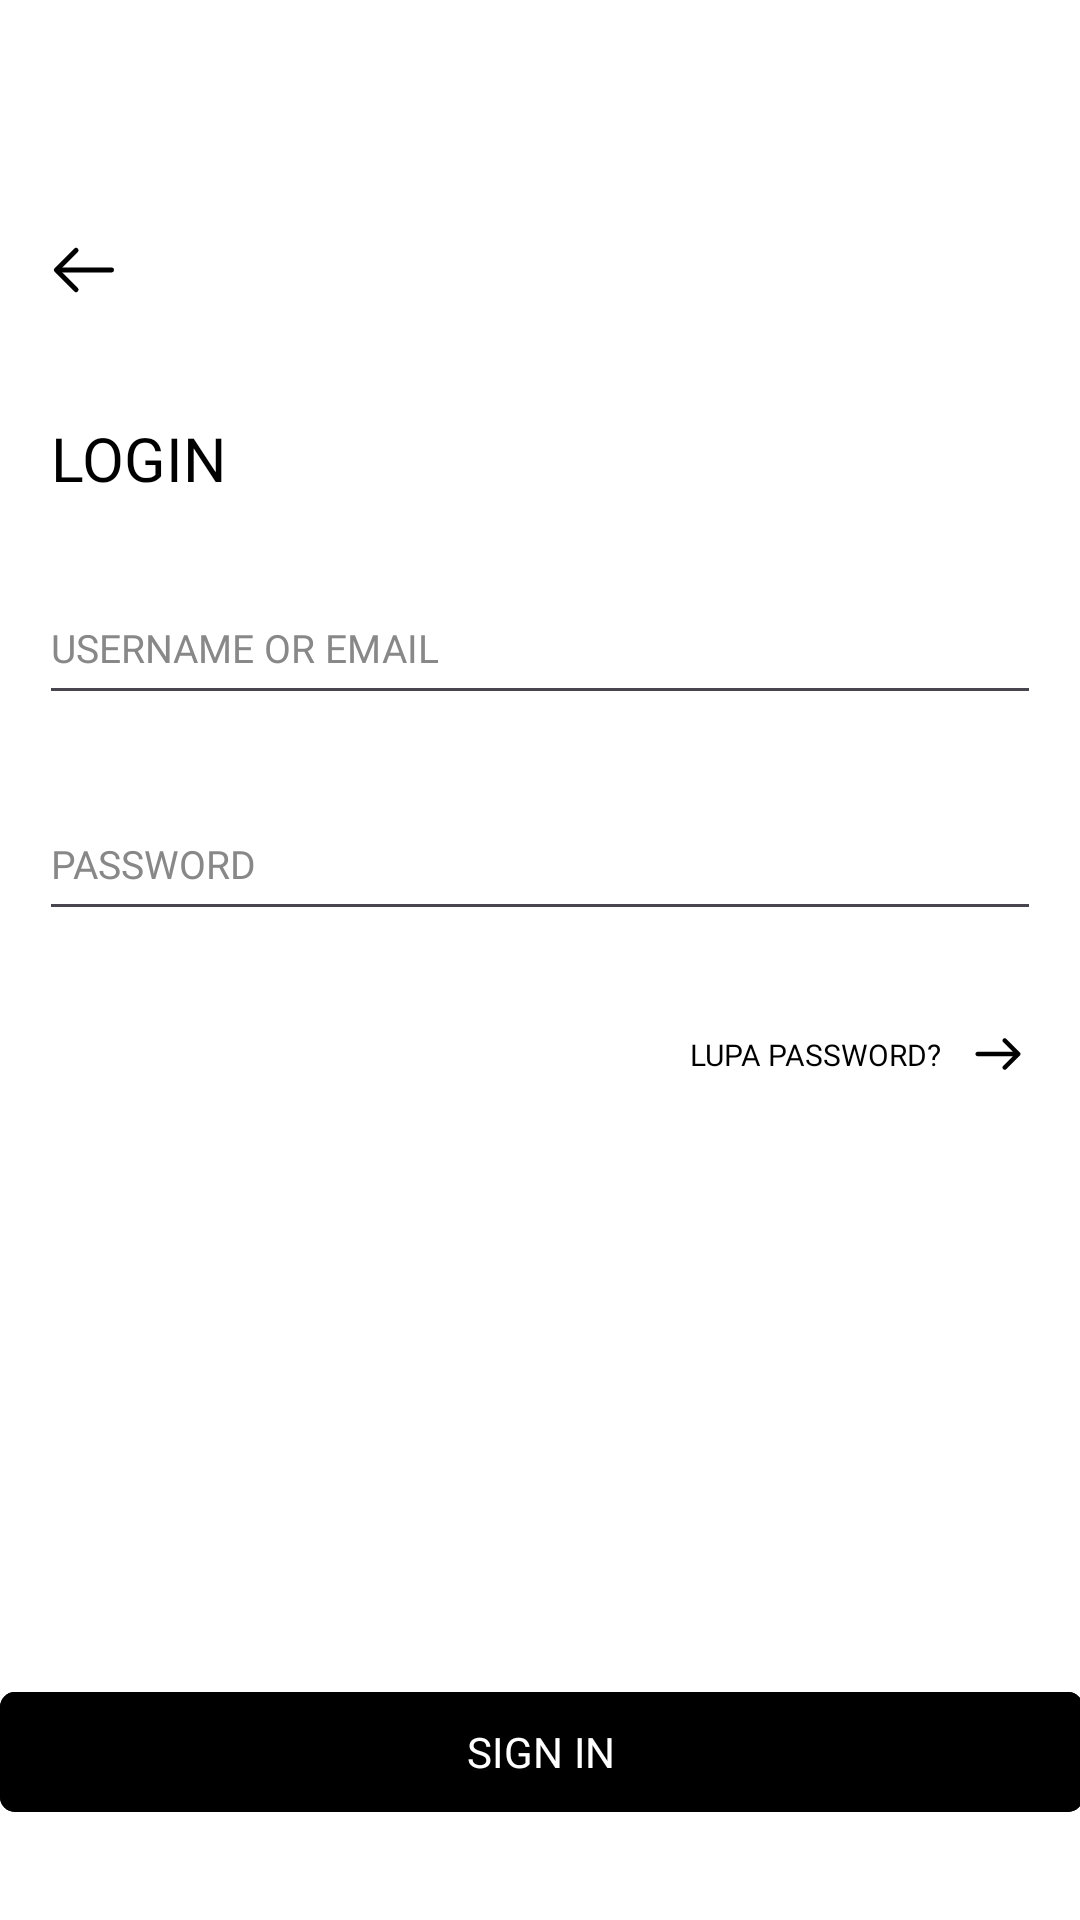

Named icons in this screenshot (1080x1920) and their bounding boxes, (x1, y1, x2, y2):
Arrow icon: (975, 1038, 1021, 1070)
Back: (54, 247, 114, 293)
